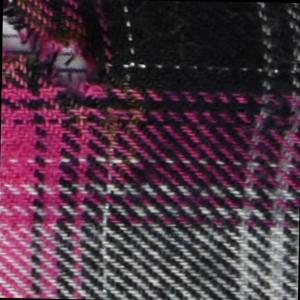Damage: (1, 1, 120, 120)
